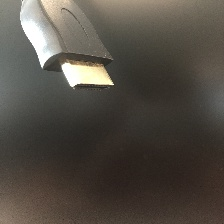hdmi_male: (6, 0, 148, 112)
